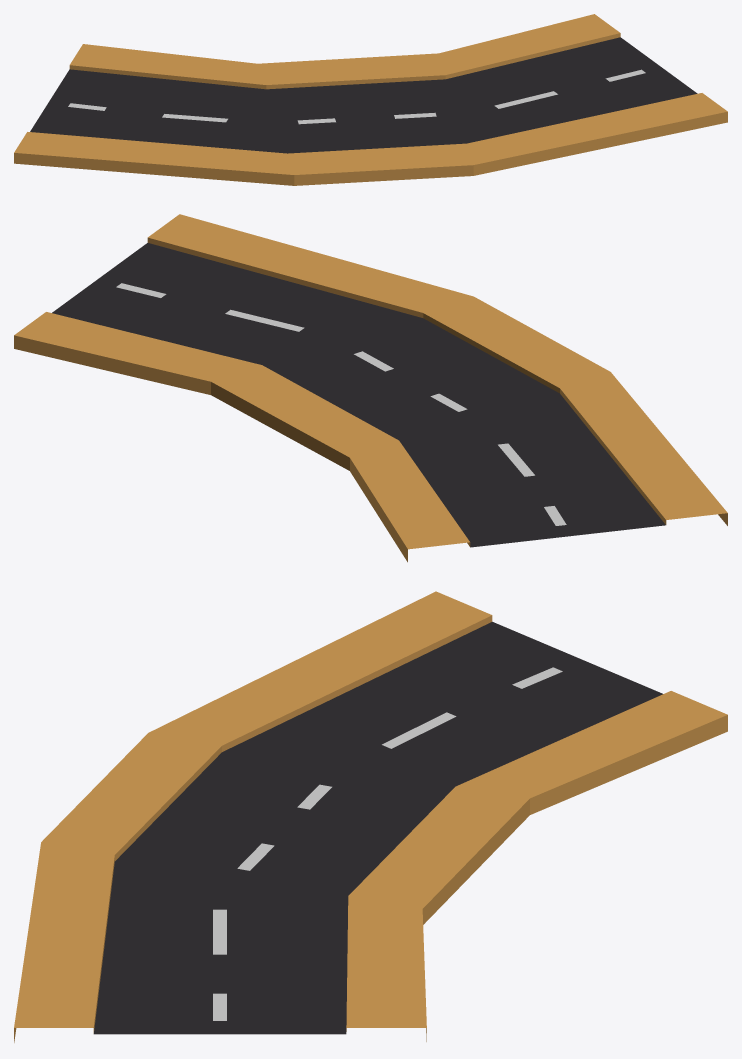
Rendered from R-Bend.fbx.
3 renders of one model, top to bottom at view 1: azimuth 30°, elevation 25°; view 2: azimuth 150°, elevation 25°; view 3: azimuth 270°, elevation 25°, orthographic. The views are drawn at different scales.
Parts seen in each view (by area): view 1: Cube.005; view 2: Cube.005; view 3: Cube.005.
Boxes of the visible parts, <box> form: Cube.005: <box>14,14,727,185</box>; Cube.005: <box>14,214,727,562</box>; Cube.005: <box>14,591,727,1042</box>.
Size of the model in its own units: 1238 by 22.21 by 856.
